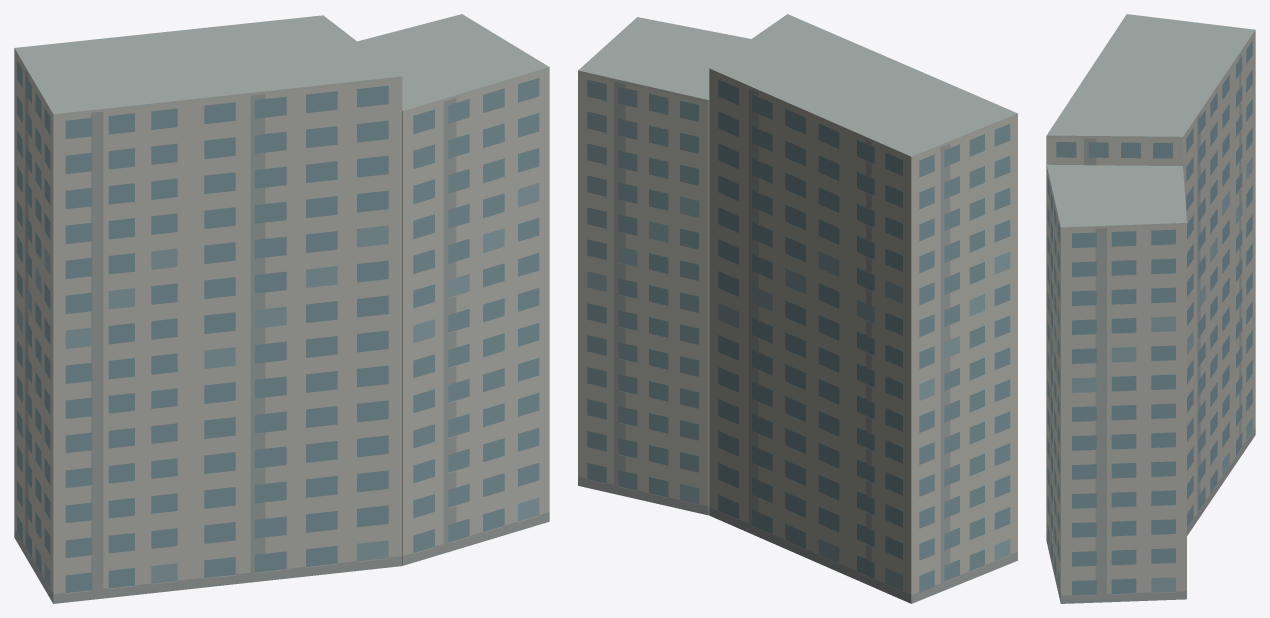
File: residential-65bab2a3-782c-43e1-b94d-e547d67c27fe.glb
3 renders of one model, left to right at view 1: azimuth 30°, elevation 25°; view 2: azimuth 150°, elevation 25°; view 3: azimuth 270°, elevation 25°, orthographic. The views are drawn at different scales.
Parts seen in each view (by area): view 1: residential-65bab2a3-782c-43e1-b94d-e547d67c27fe.tmp; view 2: residential-65bab2a3-782c-43e1-b94d-e547d67c27fe.tmp; view 3: residential-65bab2a3-782c-43e1-b94d-e547d67c27fe.tmp.
Boxes of the visible parts, <box> form: residential-65bab2a3-782c-43e1-b94d-e547d67c27fe.tmp: <box>14,14,549,603</box>; residential-65bab2a3-782c-43e1-b94d-e547d67c27fe.tmp: <box>578,14,1017,603</box>; residential-65bab2a3-782c-43e1-b94d-e547d67c27fe.tmp: <box>1046,14,1255,603</box>.
Bounding box in the file's own units: 41.67 × 42.7 × 19.96.
